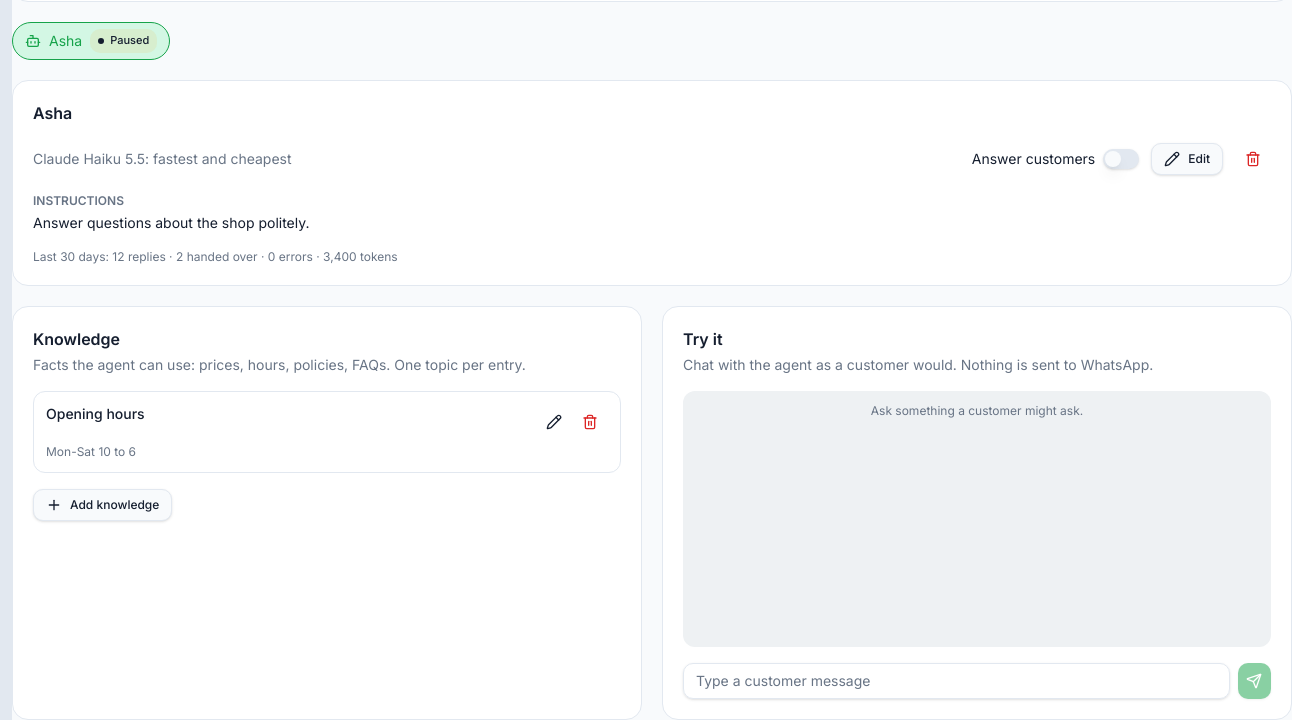
AI agents › tests the agent in a chat that sends nothing to WhatsApp
(page scrolled)
Type "When do you open?" into the field named "Test message" at coordinates (956, 681), box x1=683 y1=663 x2=1230 y2=699
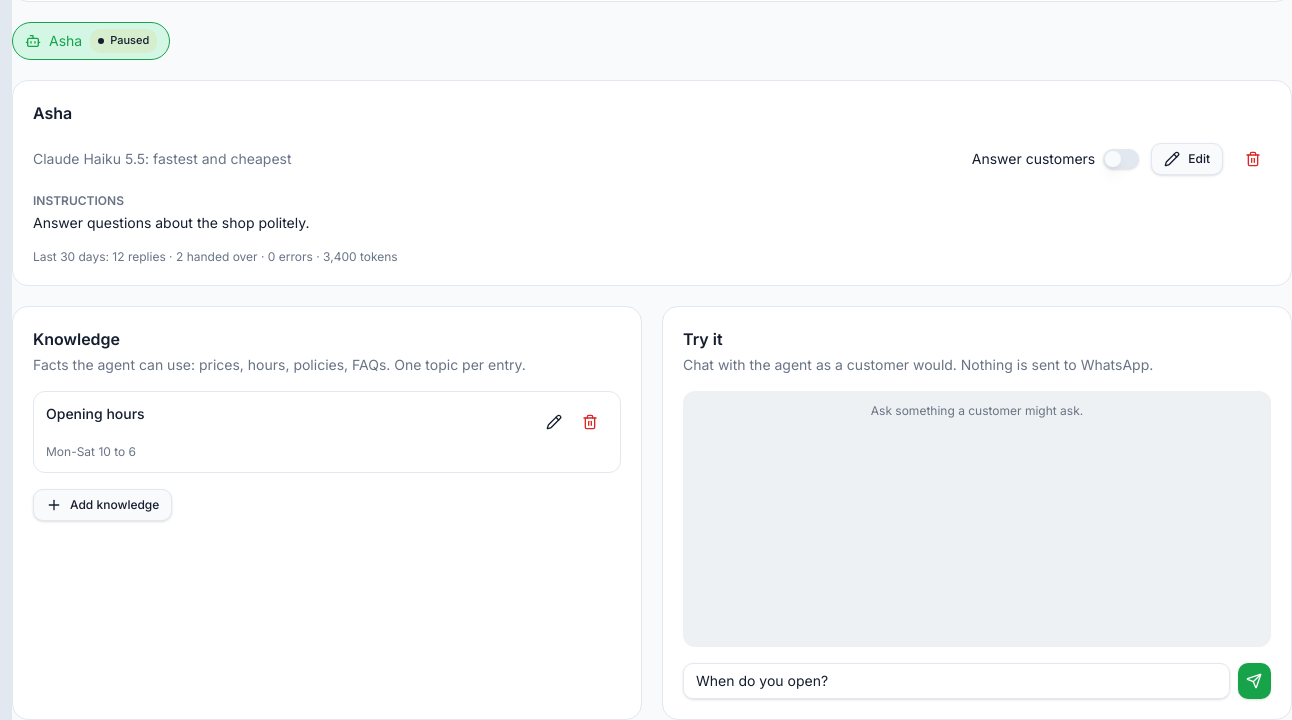
Click the button named "Send test message" at coordinates (1254, 681), box x1=1238 y1=663 x2=1271 y2=699
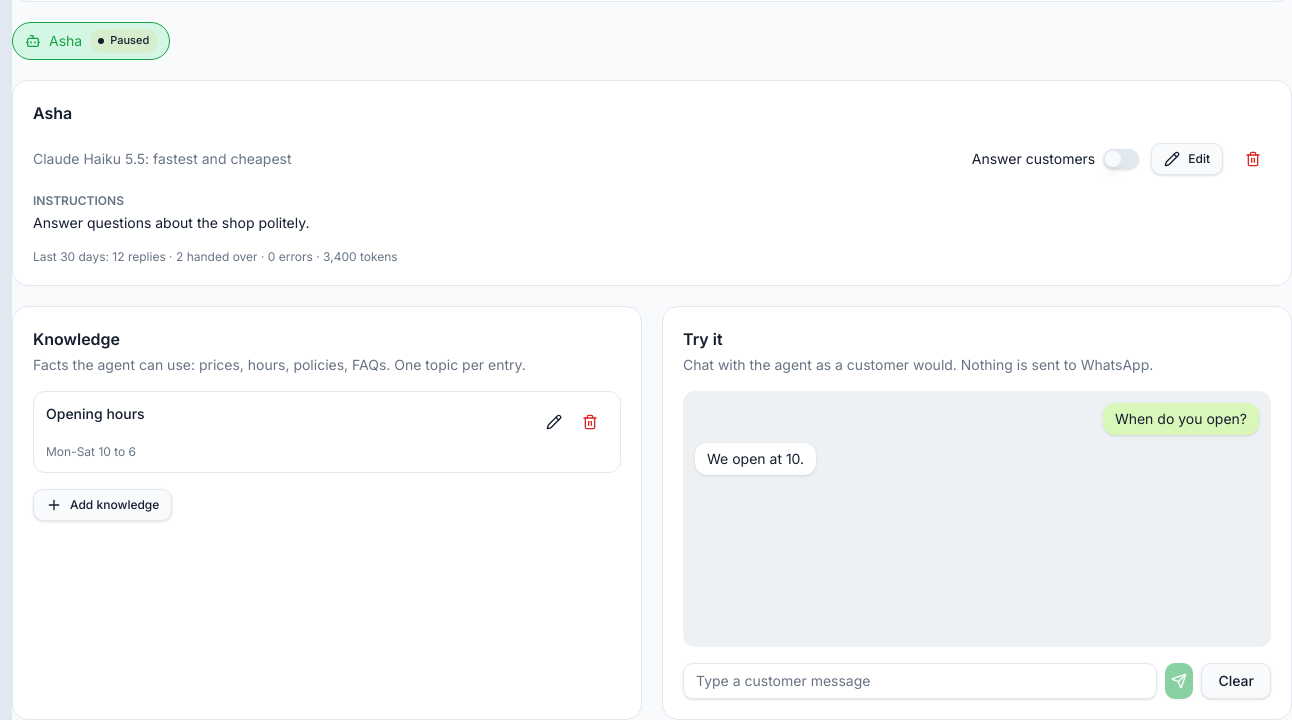
Now the text "We open at 10." is shown, box x1=707 y1=449 x2=804 y2=469
